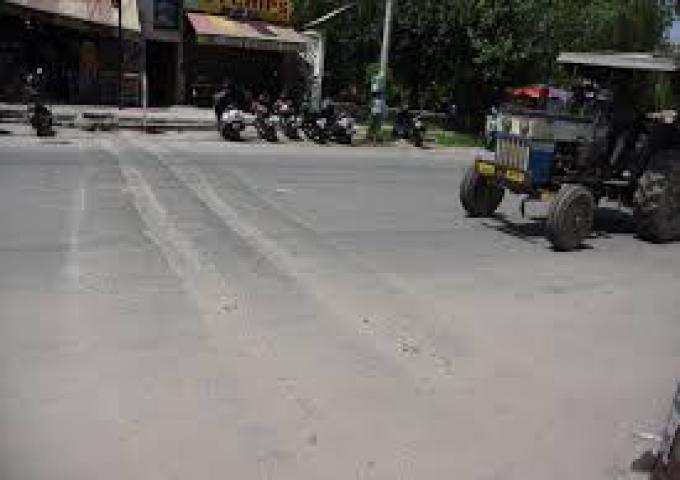Speed_Breaker: (52, 129, 615, 480), (167, 140, 613, 437), (120, 132, 473, 479), (65, 134, 300, 479)
